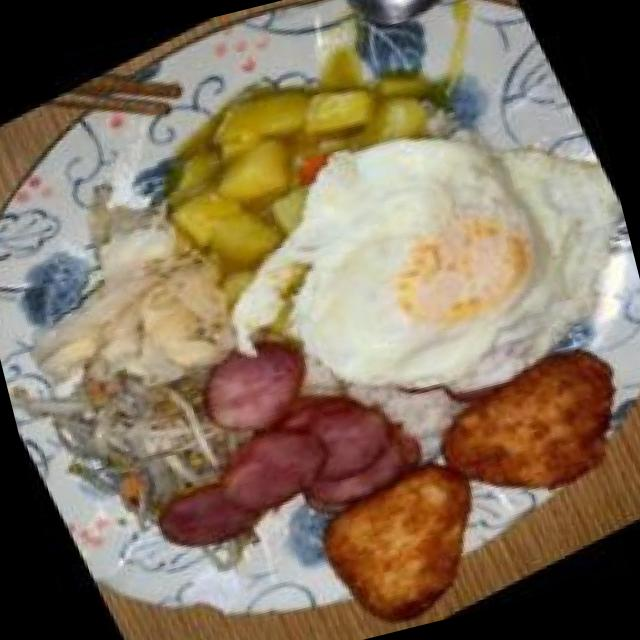chinese_cabbage: (2, 204, 250, 430)
chinese_sausage: (84, 281, 445, 598)
curry: (129, 19, 466, 274)
fried_eggs: (216, 40, 640, 459)
mung_bean_sprouts: (35, 334, 242, 534)
rice: (372, 362, 466, 452)
triangle_hash_brown: (268, 321, 640, 640)
